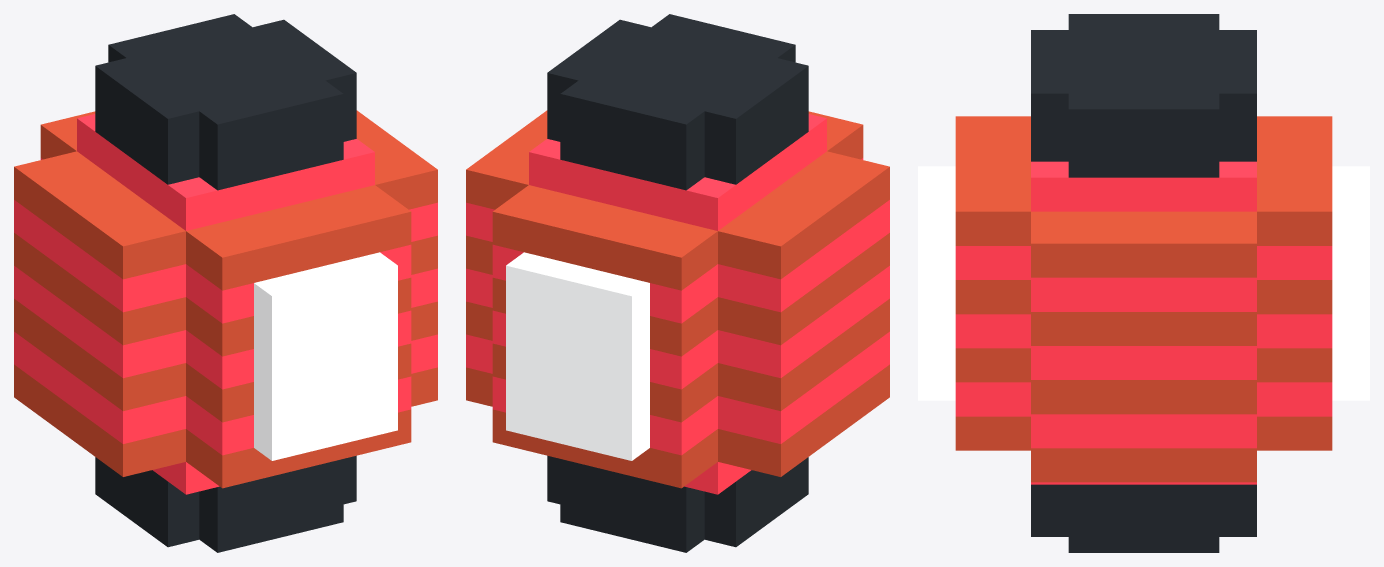
File: voxel-lantern.glb
3 renders of one model, left to right at view 1: azimuth 30°, elevation 25°; view 2: azimuth 150°, elevation 25°; view 3: azimuth 270°, elevation 25°, orthographic. The views are drawn at different scales.
Visible parts, largest first — view 1: lantern; view 2: lantern; view 3: lantern.
Boxes of the visible parts, x1,y1,x2,y2 form: lantern: (14, 14, 437, 552); lantern: (466, 14, 889, 552); lantern: (918, 14, 1369, 552).
Bounding box in the file's own units: 1.85 × 2.4 × 2.22.
